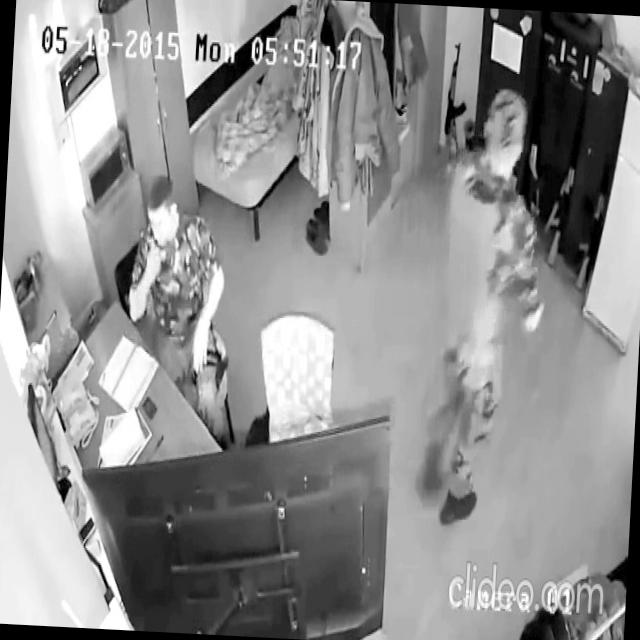gun: (572, 150, 618, 300), (541, 119, 585, 268), (439, 38, 472, 180)
person: (416, 82, 558, 533), (122, 172, 243, 451)
